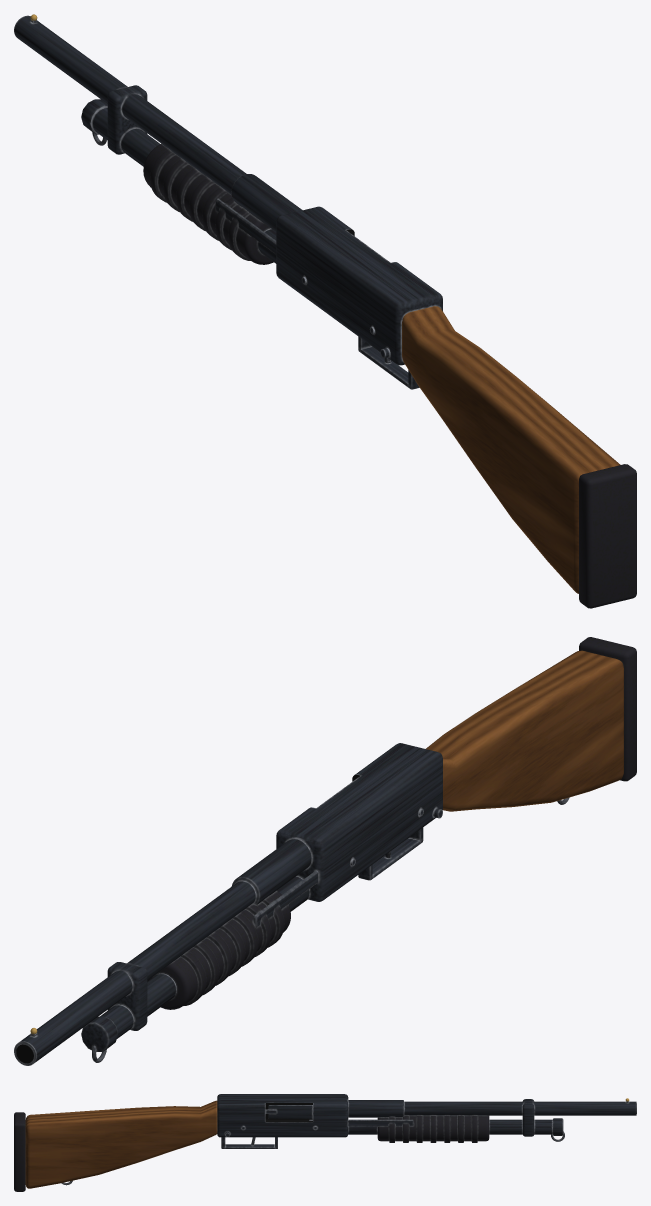
Rendered from shotgun.glb.
3 renders of one model, top to bottom at view 1: azimuth 30°, elevation 25°; view 2: azimuth 150°, elevation 25°; view 3: azimuth 270°, elevation 25°, orthographic. The views are drawn at different scales.
Visible parts, largest first — view 1: Shotgun; view 2: Shotgun; view 3: Shotgun.
Part boxes in pixels (box(x1,y1,x2,y2)): Shotgun: box(14, 14, 636, 608); Shotgun: box(14, 637, 636, 1065); Shotgun: box(14, 1094, 636, 1191).
Size of the model in its own units: 0.054 by 0.1478 by 0.9505.
Materials: 1 (1 with a texture image).
